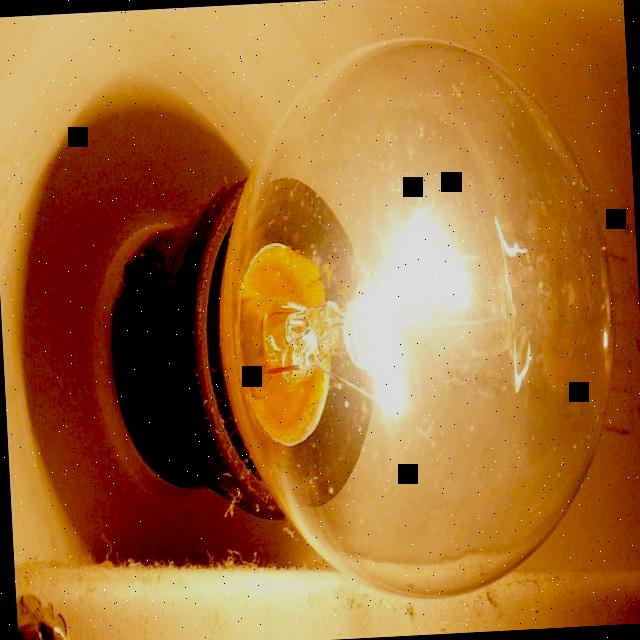light_bulb: (75, 12, 640, 631)
